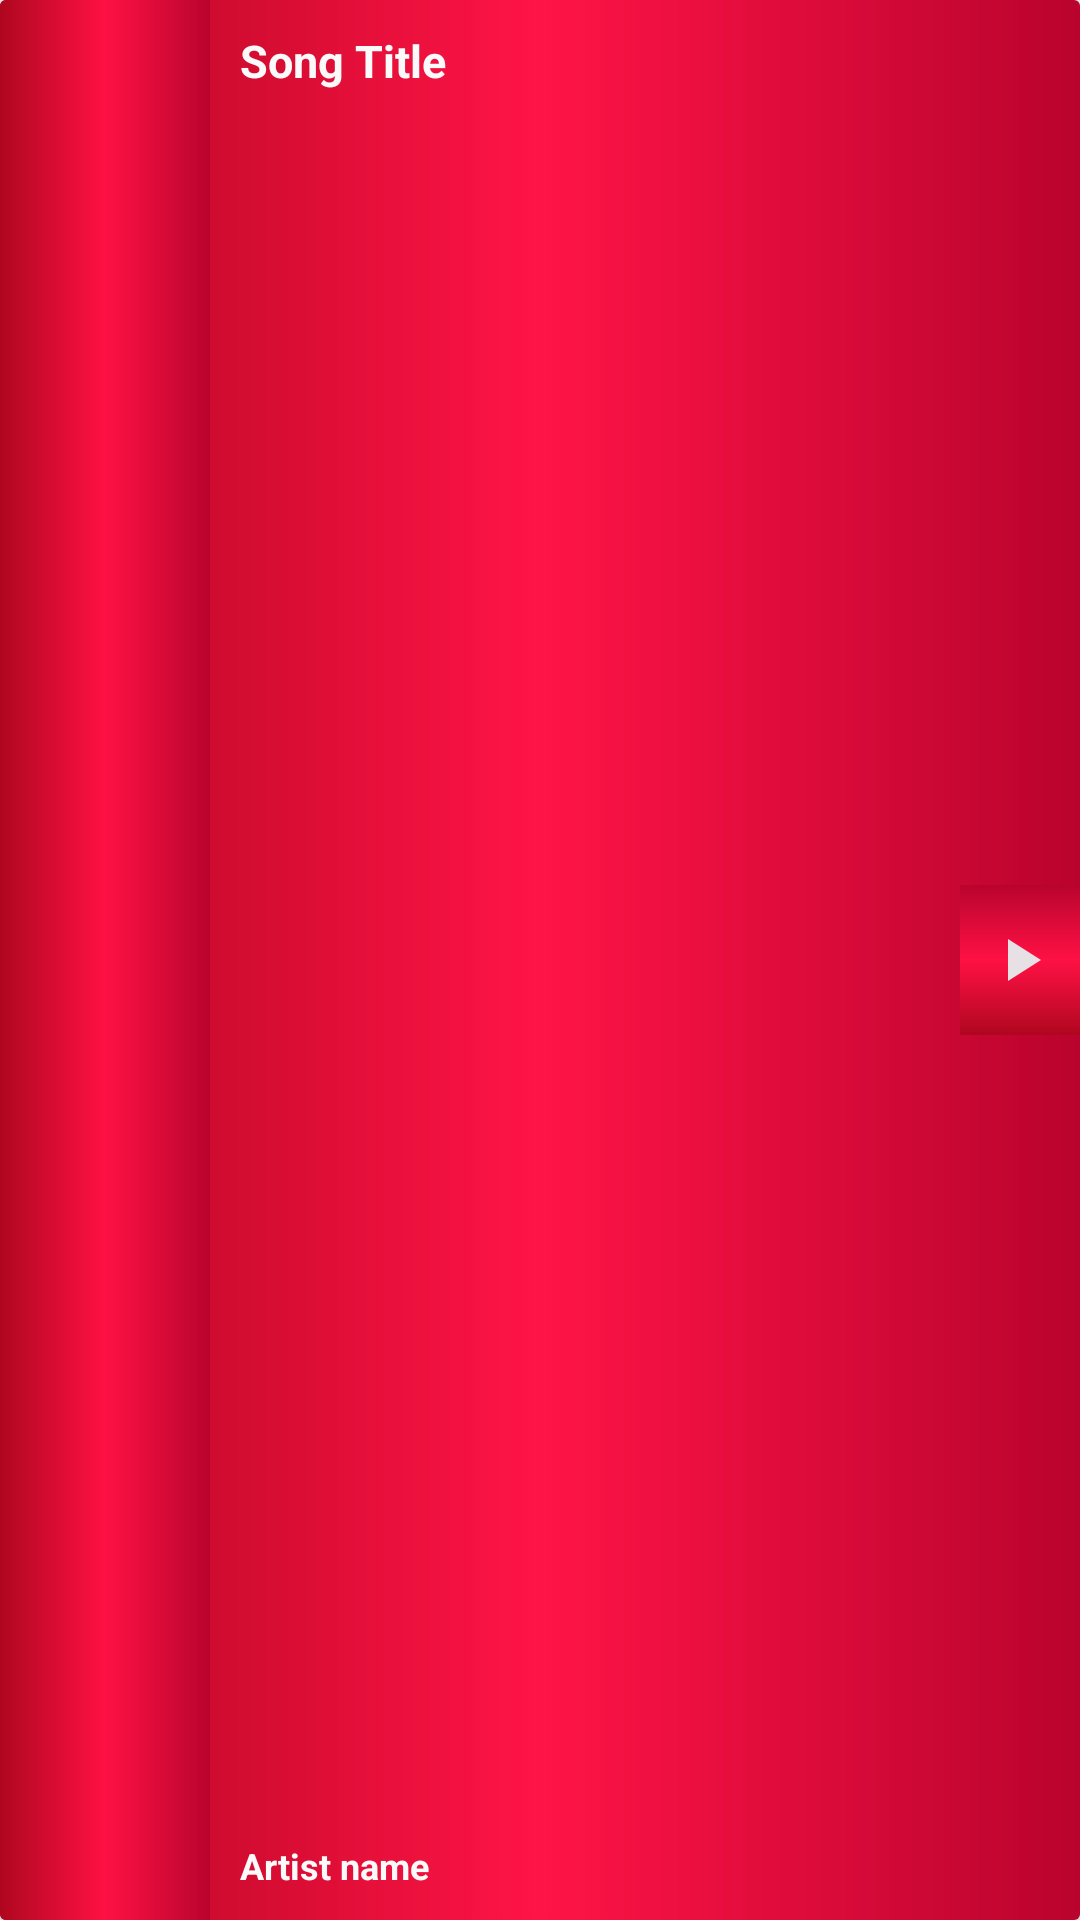

Screen size 1080w x 1920h. Icon name, then its box in pixels as (x1, y1, x2, y2):
play: (960, 928, 1080, 1035)
